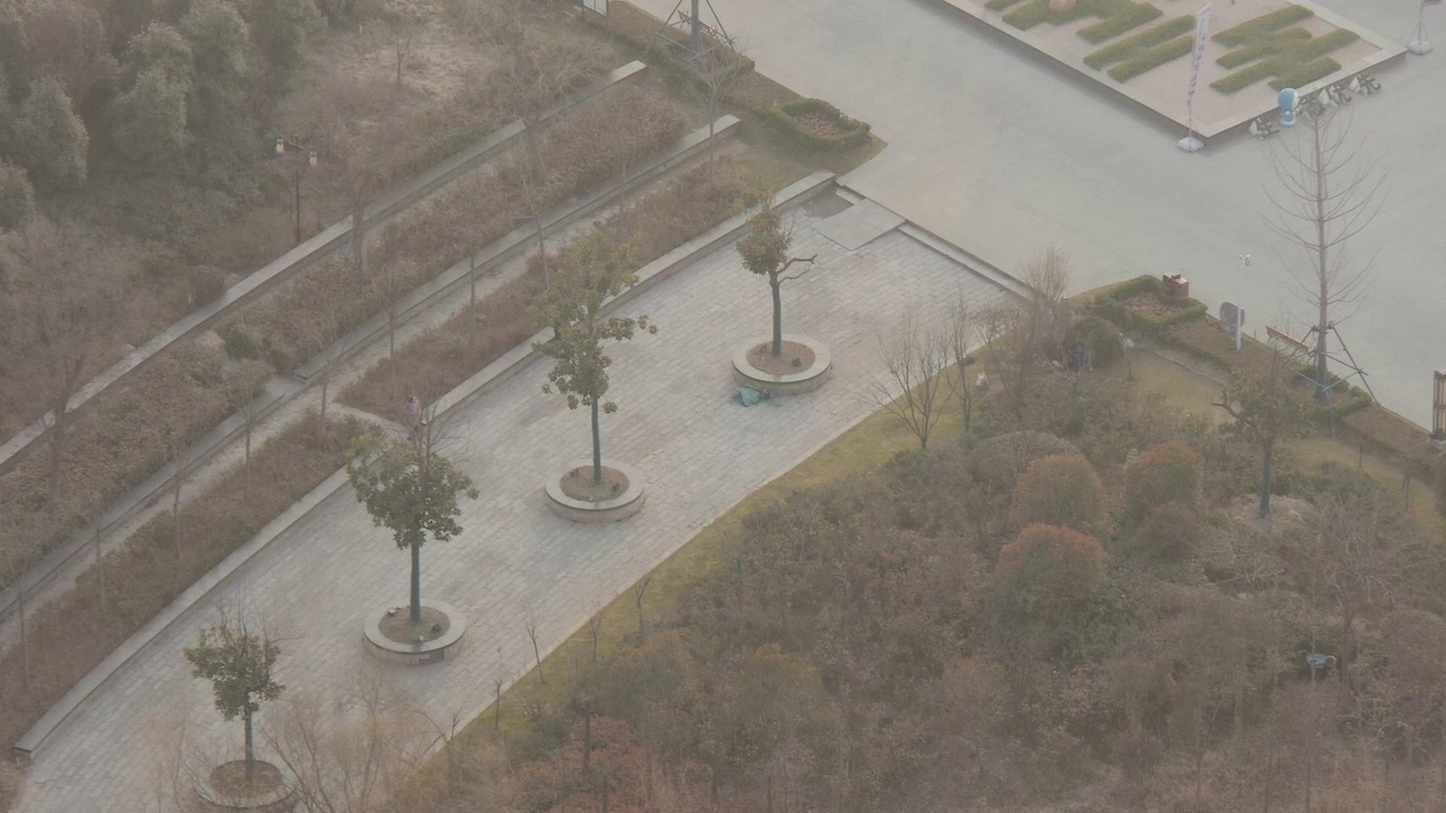human: (398, 377, 435, 442)
